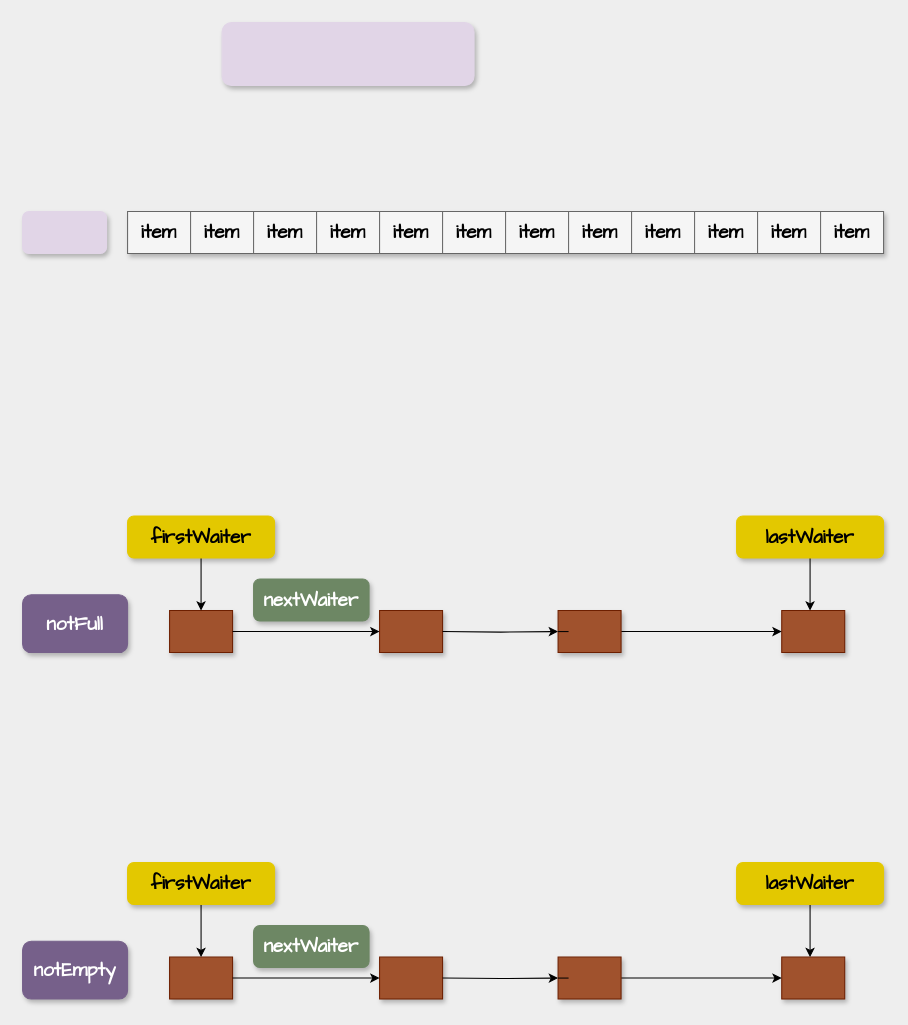
This 908x1025 diagram has some shape labels left out. The centre of each missing label's shape, as x and y in pixels:
"ArrayBlockingQueue" goes at pixel 348 55.
"items" goes at pixel 65 233.
